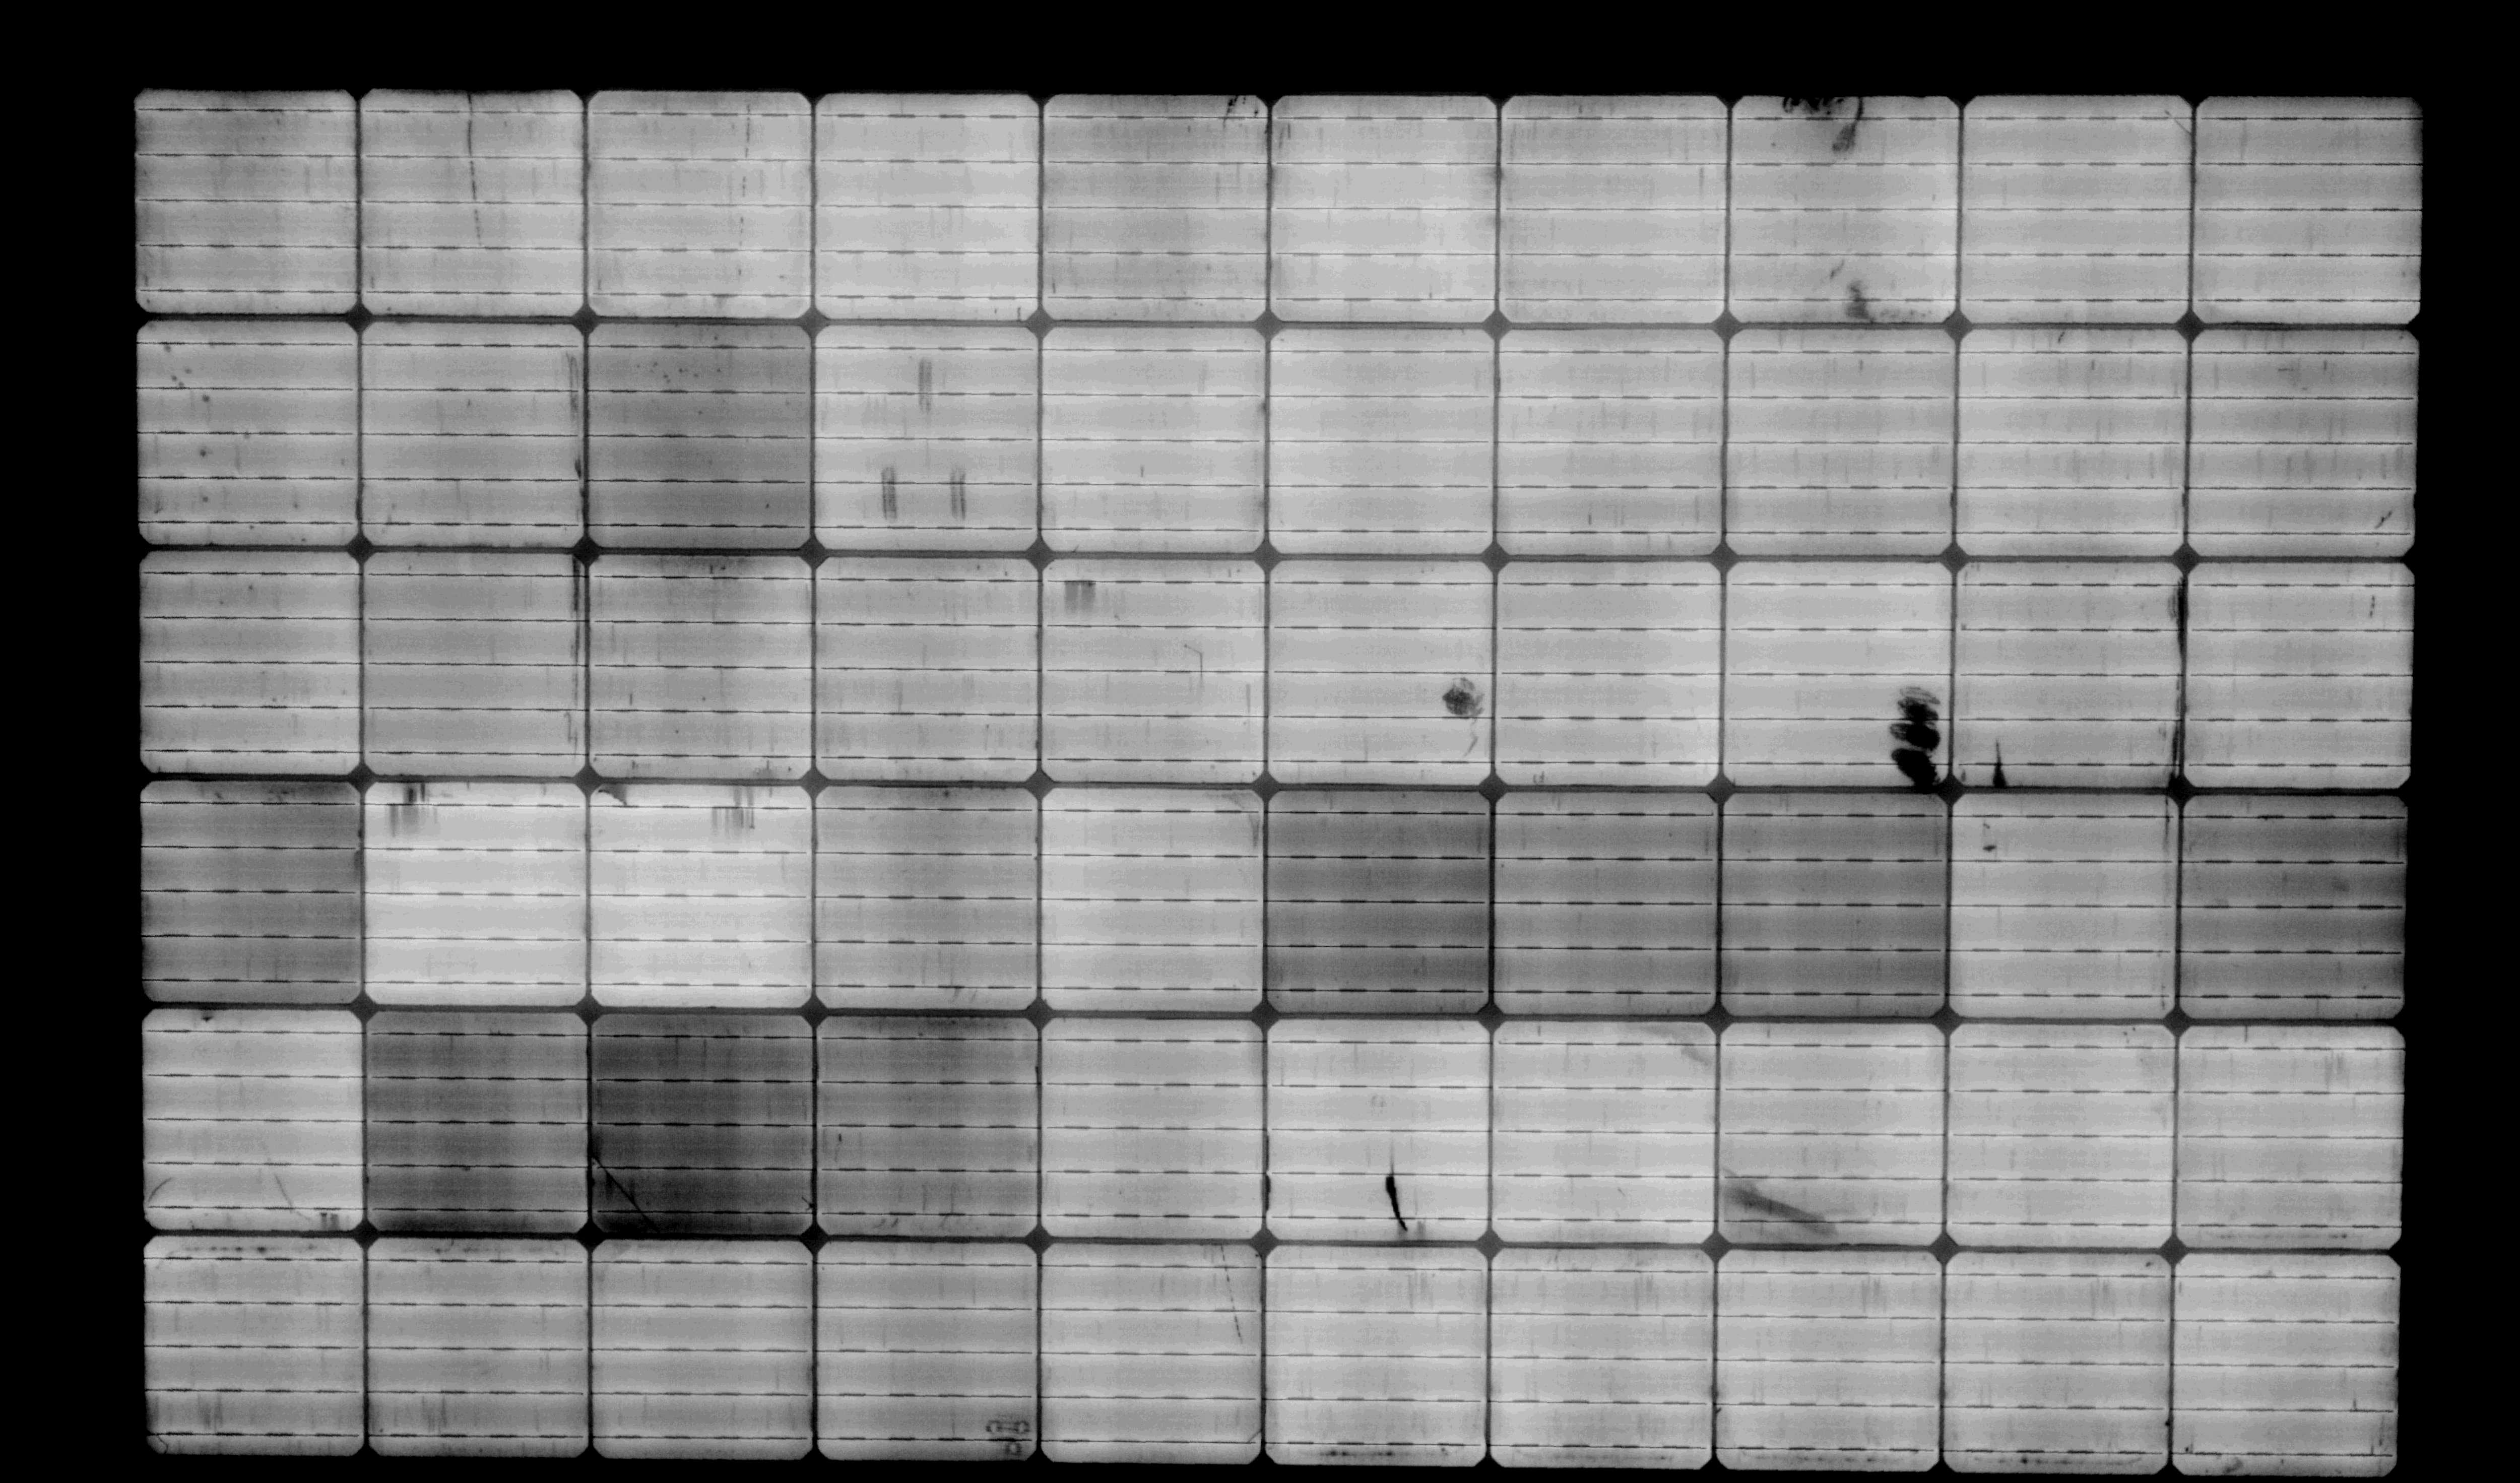5,9: (2174, 79, 2434, 343), (116, 76, 378, 334), (124, 1220, 385, 1469)
